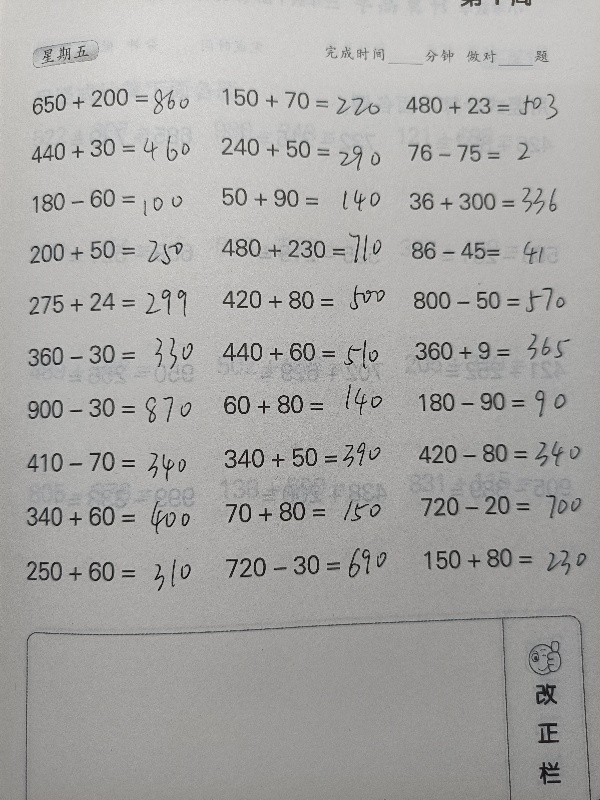equation: (215, 77, 393, 123), (217, 544, 397, 589), (214, 332, 394, 377), (214, 223, 394, 268), (20, 389, 200, 431), (410, 383, 590, 425), (22, 128, 202, 170), (398, 86, 578, 128), (24, 81, 204, 123), (409, 431, 589, 472), (23, 181, 203, 222), (400, 178, 580, 219), (215, 437, 395, 477), (404, 281, 584, 321), (213, 132, 393, 172), (17, 553, 197, 589), (415, 540, 595, 576), (217, 493, 397, 529), (412, 487, 592, 523), (18, 499, 198, 534), (18, 444, 198, 479), (215, 387, 395, 422), (19, 337, 199, 372), (407, 334, 587, 368), (20, 285, 200, 319), (214, 283, 394, 317), (403, 234, 583, 268), (21, 234, 201, 268), (213, 180, 393, 214), (399, 137, 579, 170)
